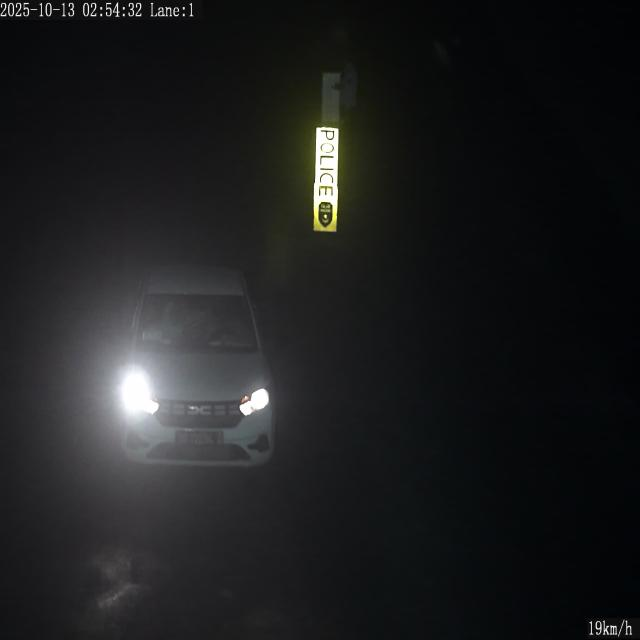BUS: (175, 430, 224, 444)
